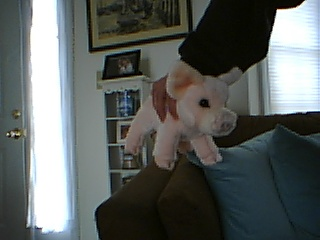piggy: (122, 60, 243, 170)
